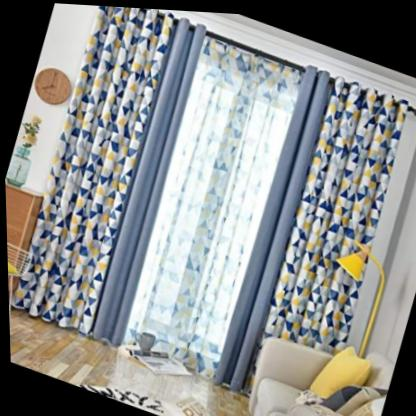Curtains: (12, 5, 408, 389)
